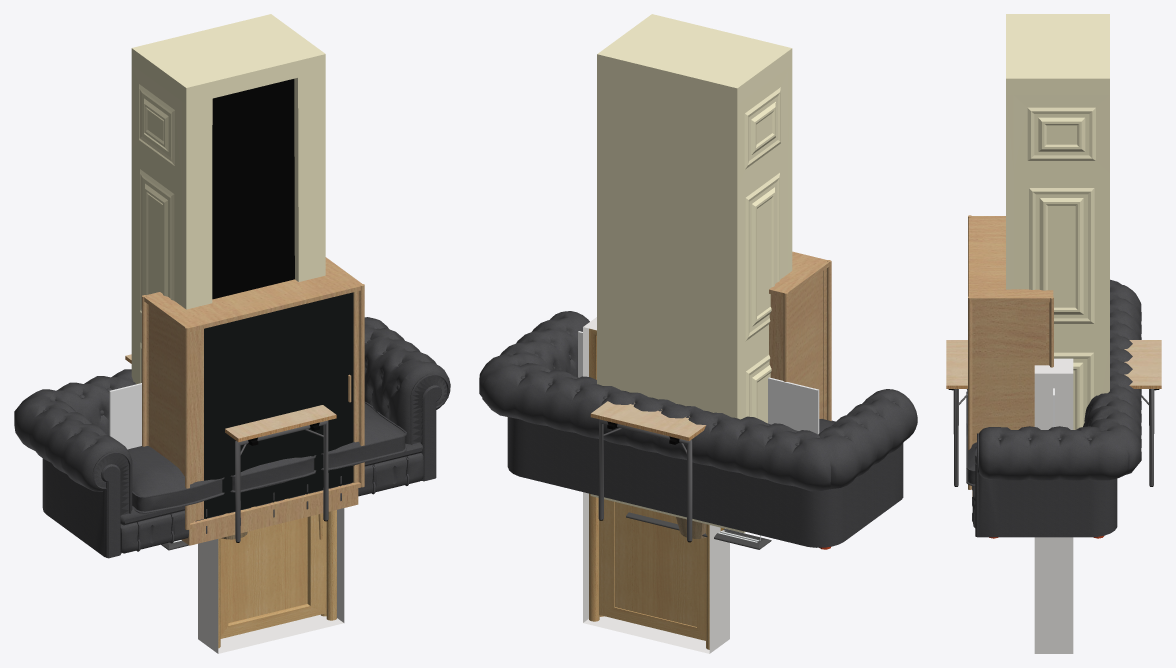
Rendered from Kataranov3.fbx.
3 renders of one model, left to right at view 1: azimuth 30°, elevation 25°; view 2: azimuth 150°, elevation 25°; view 3: azimuth 270°, elevation 25°, orthographic. The views are drawn at different scales.
Parts seen in each view (by area): view 1: Schkaf, commod2, Divan1, Door0, Door1, Parta01, Glass; view 2: Schkaf, Divan1, Door0, commod2, Door1, Parta01, Glass, Lamp_Potolok; view 3: Schkaf, Divan1, commod2, Door1, Parta01.
Part boxes in pixels (bbox=[...]): Schkaf: bbox=[131, 14, 325, 384]; commod2: bbox=[142, 257, 364, 545]; Divan1: bbox=[14, 317, 450, 558]; Door0: bbox=[218, 510, 336, 648]; Door1: bbox=[198, 508, 344, 653]; Parta01: bbox=[125, 354, 336, 542]; Glass: bbox=[109, 383, 141, 449]; Schkaf: bbox=[590, 14, 792, 533]; Divan1: bbox=[479, 311, 917, 549]; Door0: bbox=[589, 328, 709, 649]; commod2: bbox=[769, 251, 831, 420]; Door1: bbox=[583, 317, 729, 653]; Parta01: bbox=[590, 401, 706, 542]; Glass: bbox=[578, 331, 819, 434]; Lamp_Potolok: bbox=[626, 512, 771, 549]; Schkaf: bbox=[1006, 14, 1109, 429]; Divan1: bbox=[966, 279, 1141, 538]; commod2: bbox=[968, 215, 1053, 496]; Door1: bbox=[1034, 358, 1073, 653]; Parta01: bbox=[946, 340, 1161, 486].
Bounding box in the file's own units: 105 × 158 × 55.12.
